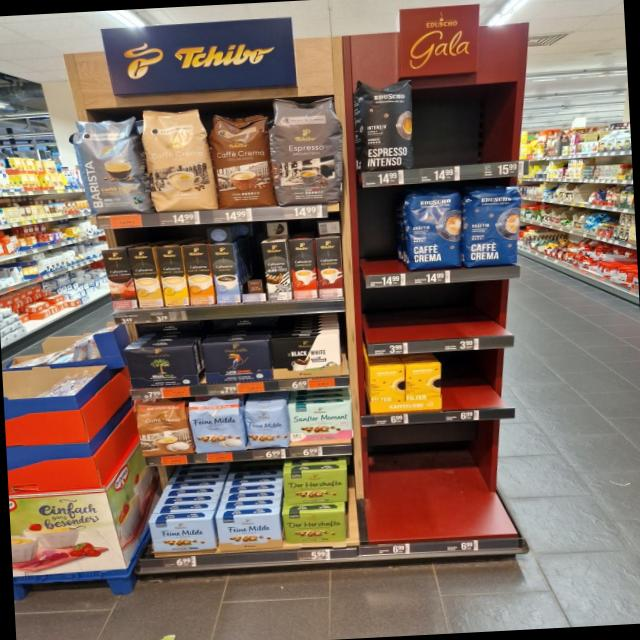BM Gemahlen: (122, 346, 200, 390)
BW Gemahlen: (272, 334, 342, 379)
Barista CC: (69, 113, 148, 217)
CC Mild: (141, 104, 216, 214)
CC Vollmundig: (135, 398, 192, 458)
CC Vollmundig 36 Pads: (211, 112, 273, 210)
Espresso Aromatisch: (266, 92, 348, 206)
FM 36 Pads: (187, 398, 246, 454)
FM Bohne: (244, 404, 291, 451)
FM Gemahlen: (214, 512, 284, 552), (149, 515, 216, 555)
Herzhatfe Mundig: (282, 506, 348, 547), (282, 467, 350, 506)
LG Gemahlen: (202, 339, 272, 384)
SM Gemahlen: (289, 400, 354, 442)
Simo CCMild bigpack: (156, 246, 189, 305)
Simo CCVollmundig bigpack: (101, 249, 138, 309), (183, 245, 215, 304)
Simo Decaff: (128, 248, 163, 308)
Simo Es Brazil: (290, 238, 318, 300)
Simo Es Caramel: (316, 237, 344, 299)
Simo Es Elegant: (263, 242, 292, 300)
Simo Es Vanilla: (210, 244, 242, 303)
